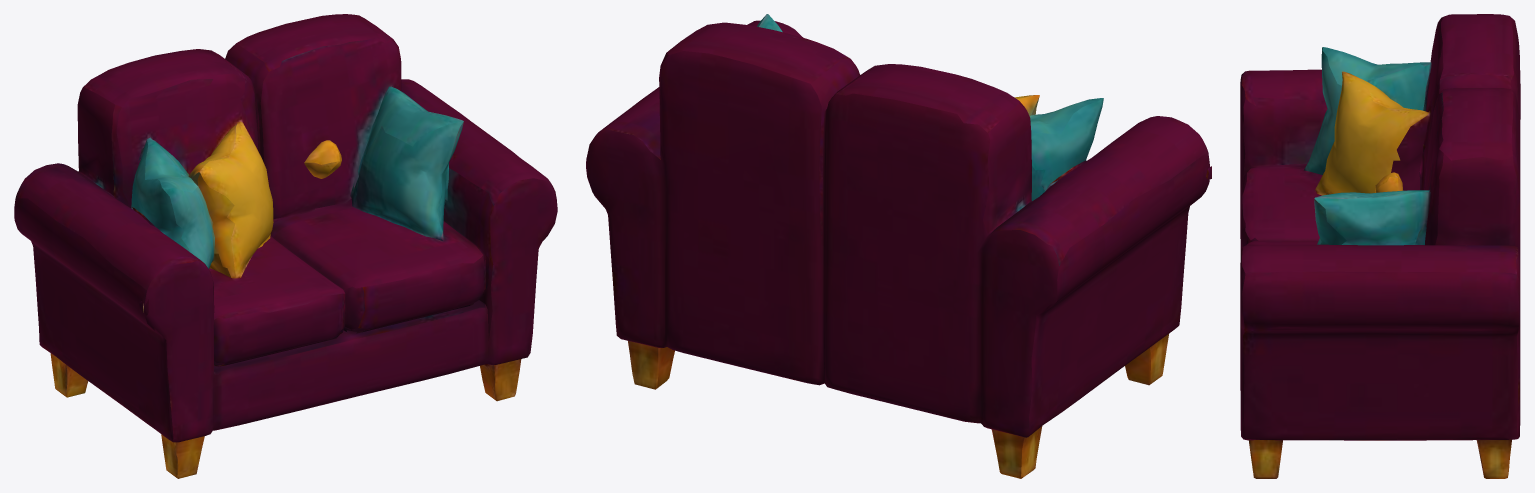
Rendered from sofa.glb.
3 renders of one model, left to right at view 1: azimuth 30°, elevation 25°; view 2: azimuth 150°, elevation 25°; view 3: azimuth 270°, elevation 25°, orthographic. The views are drawn at different scales.
Visible parts, largest first — view 1: sofa2; view 2: sofa2; view 3: sofa2.
Part boxes in pixels (left/top/right/bottom): sofa2: left=14, top=14, right=557, bottom=478; sofa2: left=586, top=14, right=1211, bottom=478; sofa2: left=1240, top=14, right=1520, bottom=478.
Bounding box in the file's own units: 1 × 0.7168 × 0.5652.
Materials: 1 (1 with a texture image).
